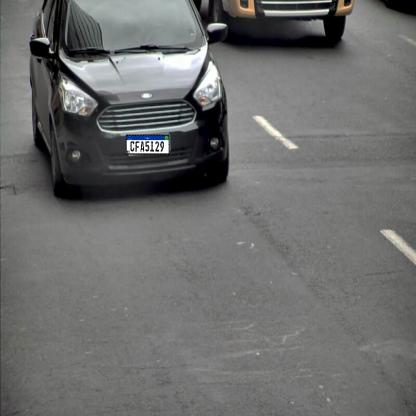PlacaM: (126, 134, 169, 154)
